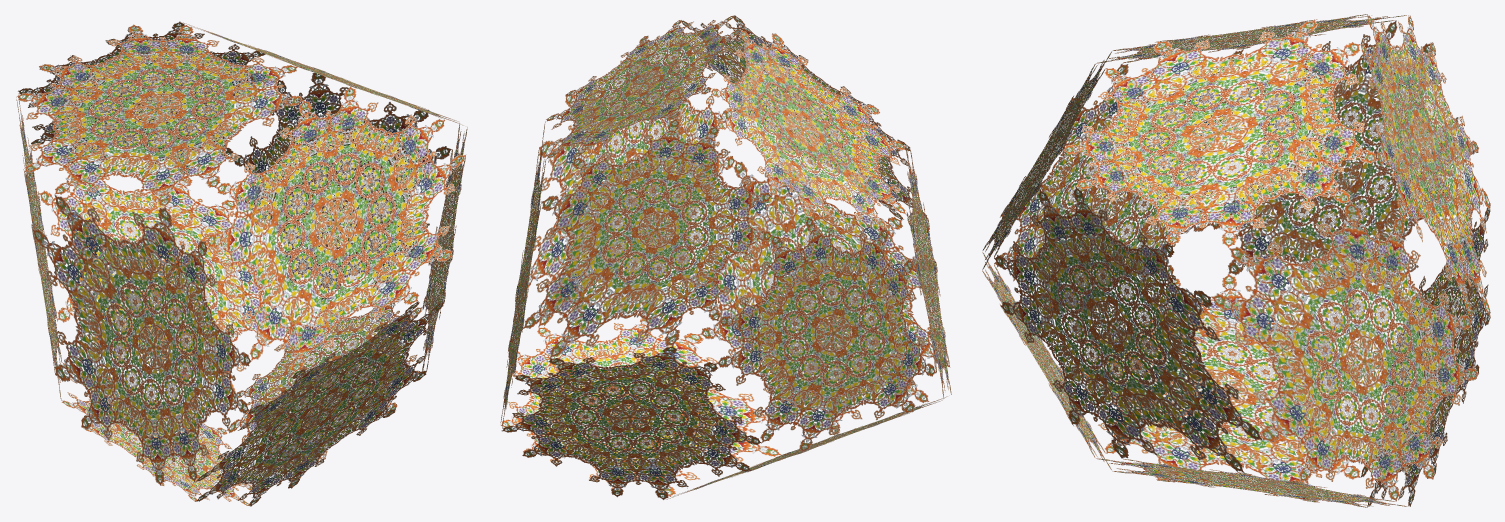
Rendered from Tetartoid7.obj.
The picture shows the model from 3 angles, left to right: view 1: azimuth 30°, elevation 25°; view 2: azimuth 150°, elevation 25°; view 3: azimuth 270°, elevation 25°; orthographic projection. The views are drawn at different scales.
Size of the model in its own units: 22 by 22 by 22.
1 material, 1 textured.
